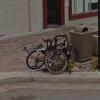Bicycle: (22, 33, 72, 76)
